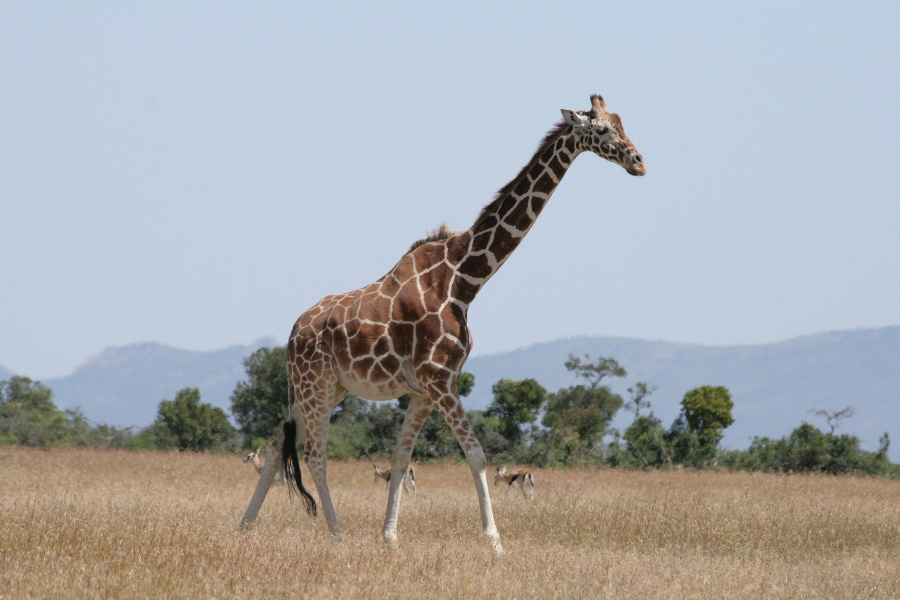giraffe: (227, 88, 648, 543)
